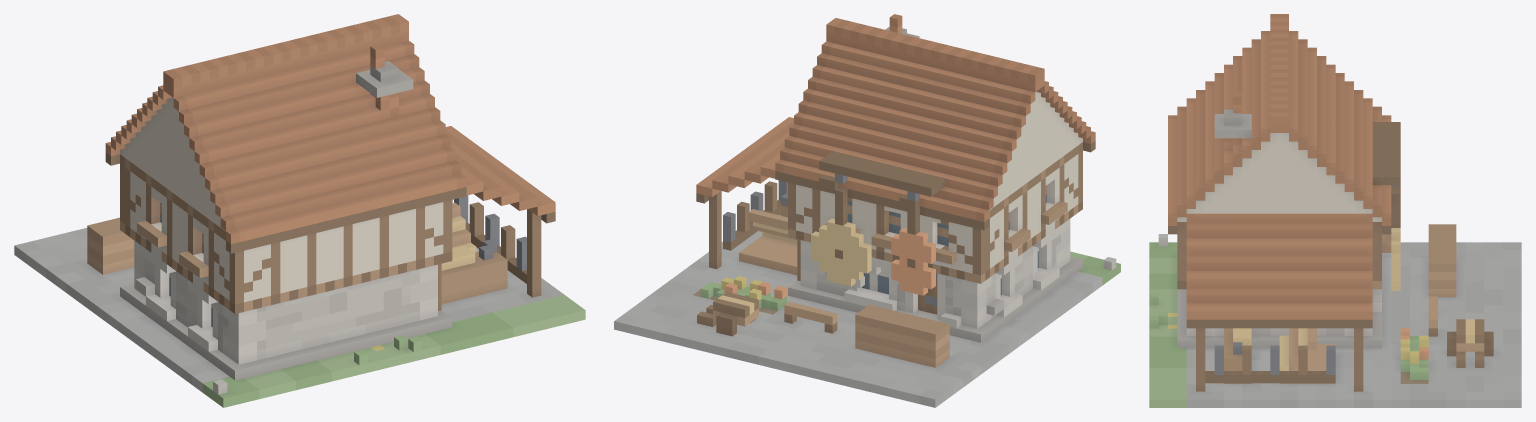
File: luthier.glb
3 renders of one model, left to right at view 1: azimuth 30°, elevation 25°; view 2: azimuth 150°, elevation 25°; view 3: azimuth 270°, elevation 25°, orthographic. The views are drawn at different scales.
Parts seen in each view (by area): view 1: luthier; view 2: luthier; view 3: luthier.
Boxes of the visible parts, x1,y1,x2,y2 form: luthier: (14, 14, 585, 407); luthier: (614, 14, 1120, 407); luthier: (1149, 14, 1521, 407).
Size of the model in its own units: 5 by 3.62 by 5.
